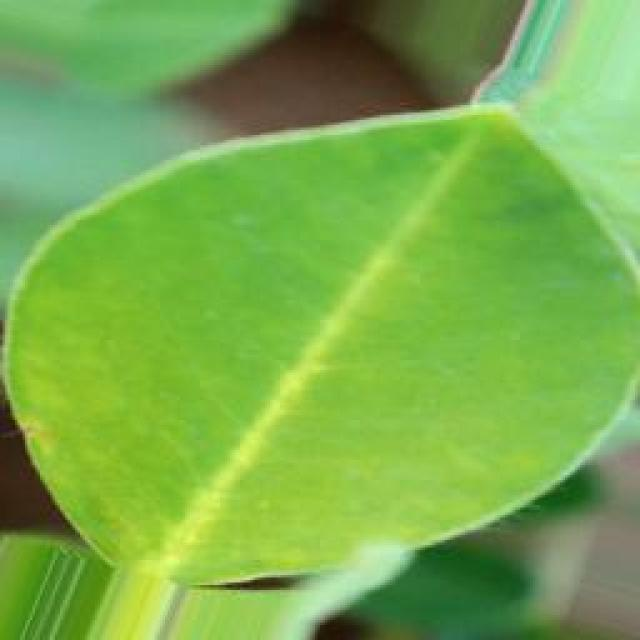Yellow_and_black_sigatoka: (0, 104, 640, 581)
